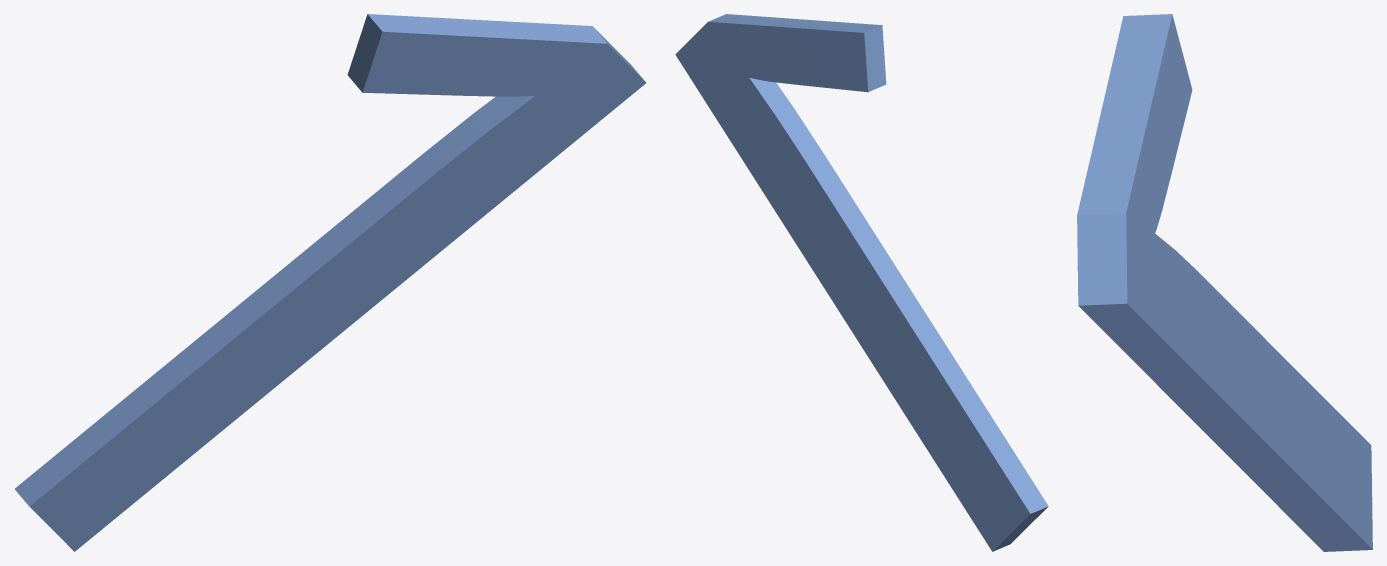
Rendered from New_Number_1.gltf.
3 views of the same model, side by side, from view 1: azimuth 30°, elevation 25°; view 2: azimuth 150°, elevation 25°; view 3: azimuth 270°, elevation 25° (orthographic). The views are drawn at different scales.
Visible parts, largest first — view 1: Part 91; view 2: Part 91; view 3: Part 91.
Boxes of the visible parts, left/top/right/bottom form: Part 91: left=15, top=14, right=646, bottom=551; Part 91: left=675, top=14, right=1048, bottom=551; Part 91: left=1077, top=14, right=1372, bottom=551.
Bounding box in the file's own units: 0.00415 × 0.00392 × 0.00152.
